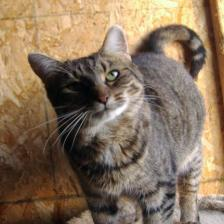cat: (28, 24, 148, 136)
